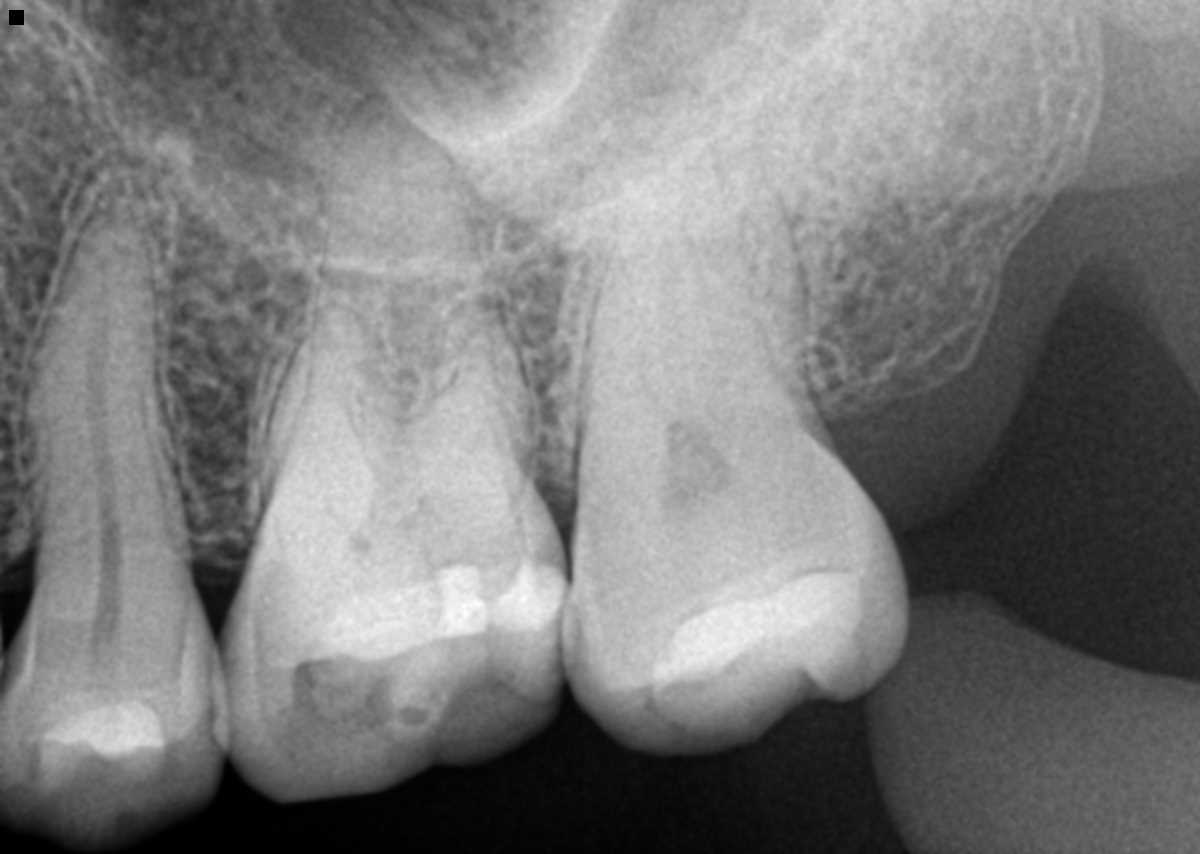Distal Root: (705, 180, 835, 466), (433, 294, 536, 512)
Main Canal: (87, 310, 121, 570)
Main Root: (17, 175, 197, 579)
Mesial Root: (572, 211, 735, 509), (255, 305, 415, 552)
Palatal Canal: (383, 142, 439, 406)
Palatal Root: (264, 95, 529, 585), (578, 94, 857, 550)
